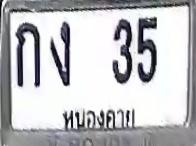3: (111, 18, 132, 83)
5: (136, 16, 158, 83)
A01: (14, 22, 40, 87)
A07: (49, 20, 71, 84)
NKI: (57, 103, 138, 134)
